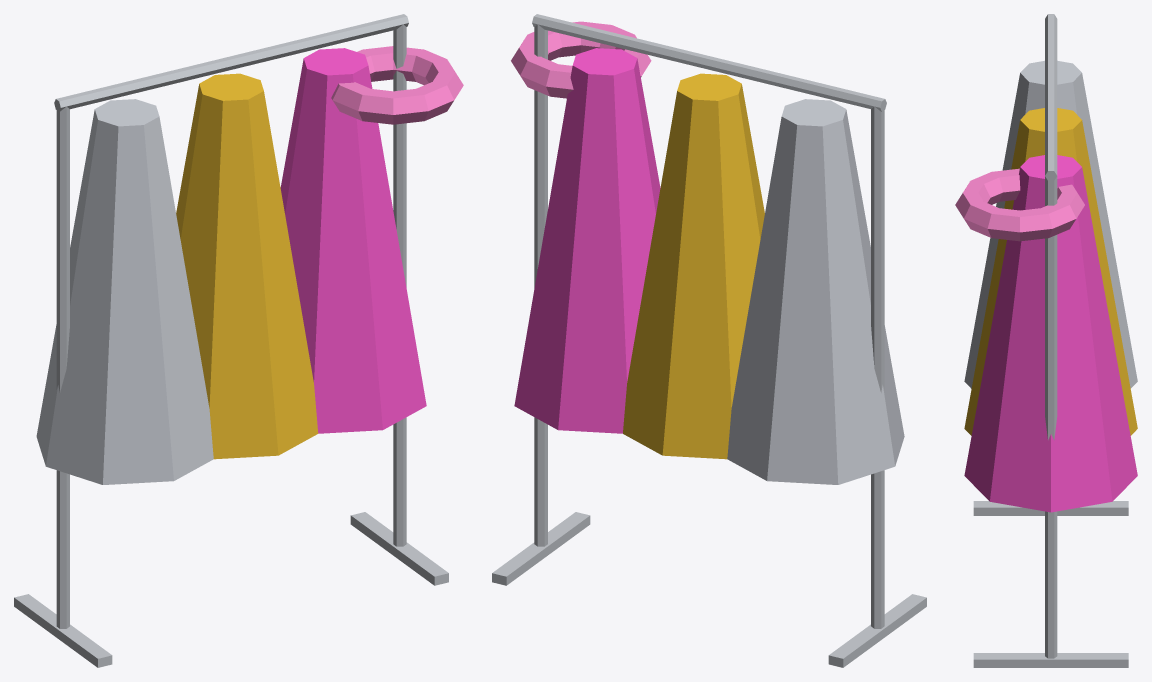
File: dress_rack.glb
3 renders of one model, left to right at view 1: azimuth 30°, elevation 25°; view 2: azimuth 150°, elevation 25°; view 3: azimuth 270°, elevation 25°, orthographic. The views are drawn at different scales.
Visible parts, largest first — view 1: dress, pole_rack_chrome, boa_boa_pink, bar_rack_chrome, foot_rack_chrome; view 2: dress, pole_rack_chrome, bar_rack_chrome, foot_rack_chrome, boa_boa_pink; view 3: dress, boa_boa_pink, pole_rack_chrome, foot_rack_chrome, bar_rack_chrome.
Part boxes in pixels (x1,y1,x2,y2): dress: (36,48,426,484); pole_rack_chrome: (56,24,406,628); boa_boa_pink: (331,46,463,124); bar_rack_chrome: (54,14,408,111); foot_rack_chrome: (14,512,448,667); dress: (514,48,904,484); pole_rack_chrome: (534,24,884,628); bar_rack_chrome: (532,14,886,111); foot_rack_chrome: (492,512,926,667); boa_boa_pink: (511,21,651,98); dress: (964,60,1137,512); boa_boa_pink: (955,168,1084,241); pole_rack_chrome: (1045,176,1057,658); foot_rack_chrome: (973,501,1128,667); bar_rack_chrome: (1045,14,1057,180).
Bounding box in the file's own units: 1.35 × 1.77 × 0.59.
